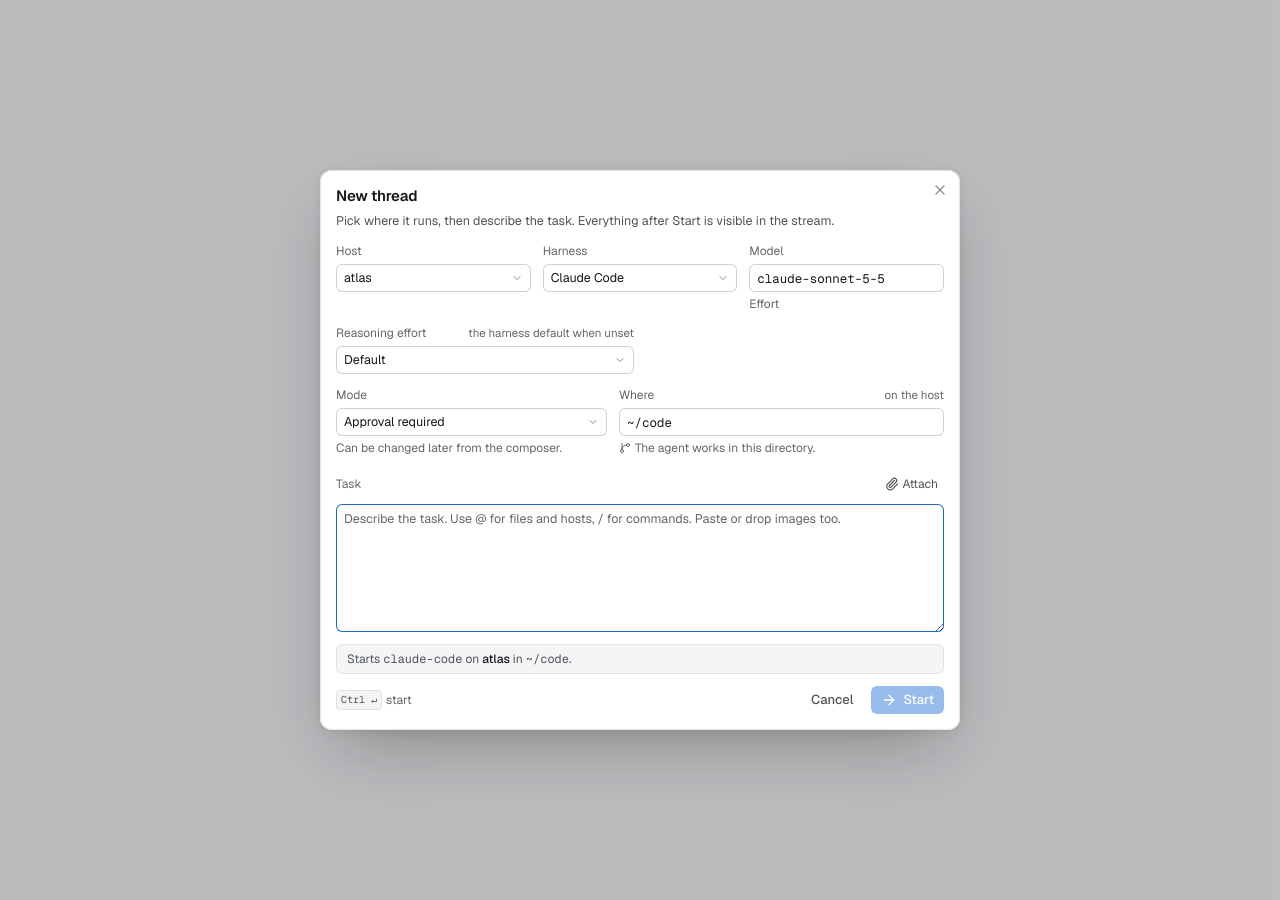
NewThreadDialog drafts › keeps the model as default after a probe unless the user picks one
The width and height of the screenshot is (1280, 900).
Press the mouse on the button with aria-label "Harness: Claude Code" at x=640, y=278, box x1=543 y1=264 x2=737 y2=292
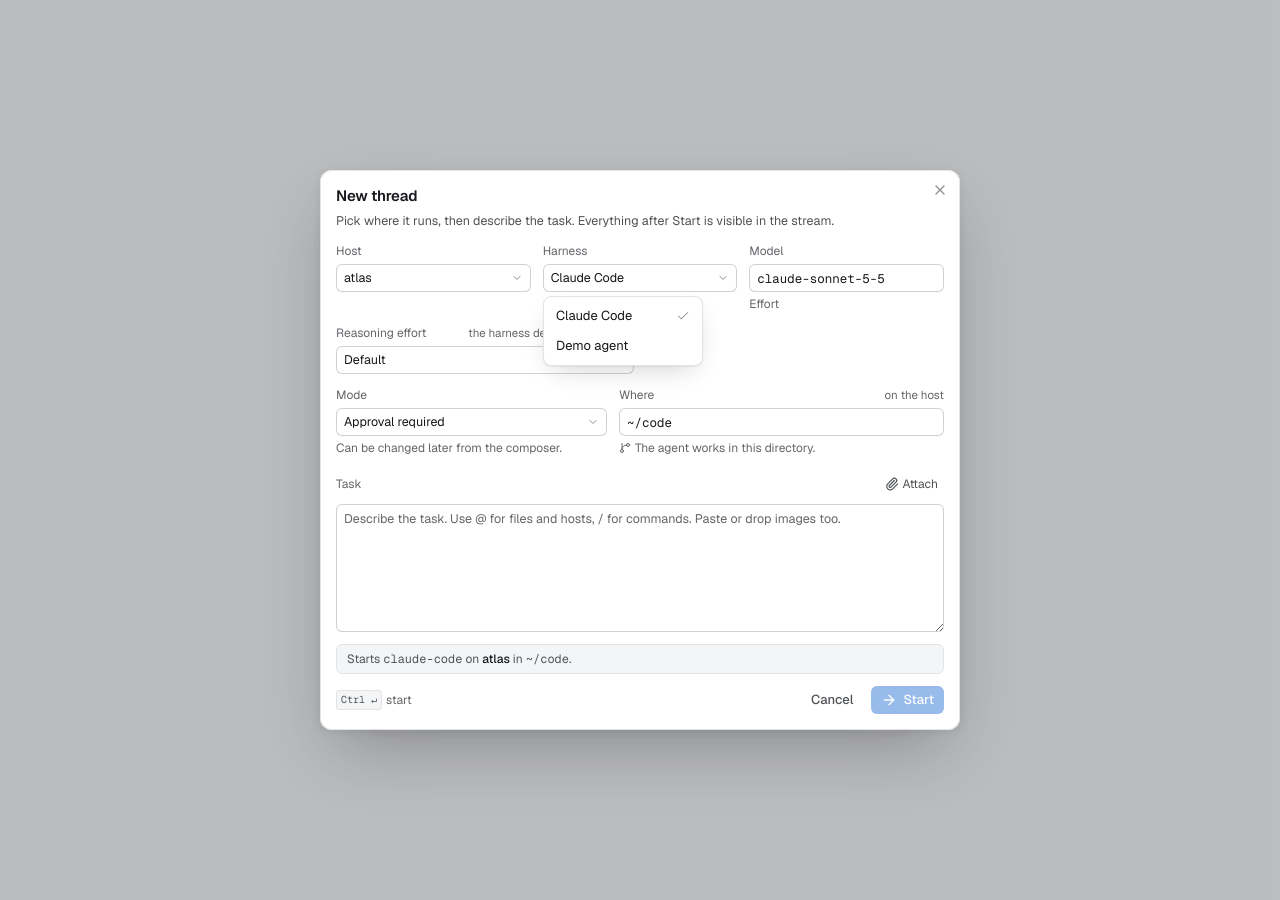
Click the menu item "Demo agent" at x=592, y=346, box x1=556 y1=337 x2=628 y2=354
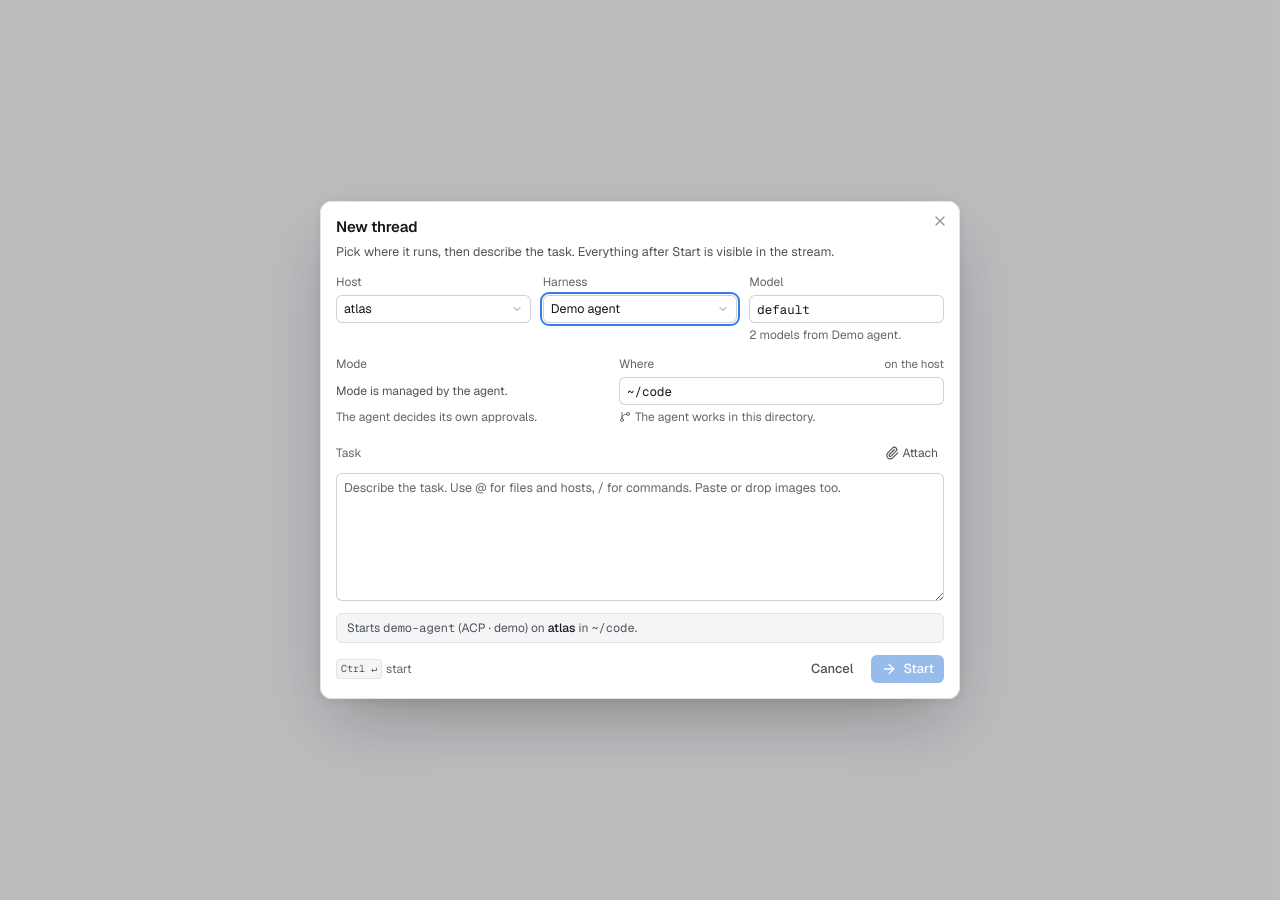
expect the button with aria-label "Harness: Demo agent" is shown: met, box x1=543 y1=295 x2=737 y2=323
expect the field with id "new-thread-model" holds "default": met, box x1=749 y1=295 x2=944 y2=323
